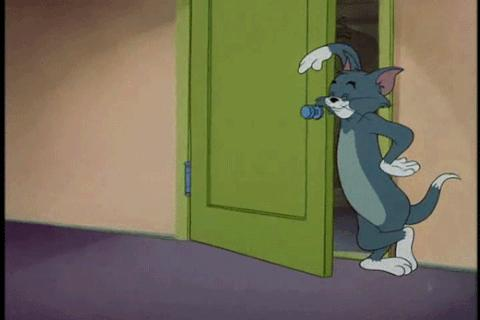tom: (296, 41, 462, 278)
